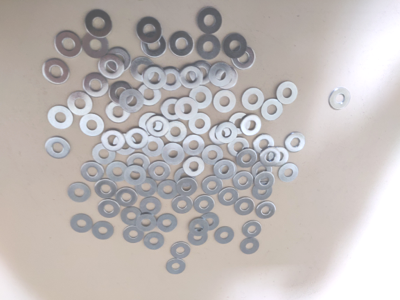circle: (85, 10, 112, 38), (43, 58, 70, 85), (55, 31, 82, 58), (136, 17, 162, 44), (98, 54, 125, 80), (83, 32, 109, 59), (141, 32, 167, 58), (68, 91, 94, 116), (106, 47, 132, 72), (83, 73, 109, 98), (47, 105, 74, 129), (198, 8, 222, 34), (170, 31, 194, 57), (197, 35, 221, 60), (209, 62, 233, 87), (80, 113, 105, 137), (119, 89, 144, 113), (109, 82, 134, 106), (142, 66, 167, 90), (131, 57, 155, 82), (45, 137, 71, 160), (189, 85, 213, 109), (223, 34, 247, 58), (231, 45, 255, 69), (160, 67, 184, 91), (139, 112, 162, 137), (242, 87, 265, 111), (102, 129, 126, 152), (180, 65, 203, 89), (189, 61, 212, 85), (214, 90, 237, 113), (175, 97, 198, 120), (126, 128, 149, 151), (215, 67, 239, 89), (138, 84, 162, 106), (106, 102, 131, 123), (162, 143, 185, 165), (142, 135, 165, 157), (93, 142, 116, 164), (277, 81, 298, 105), (329, 88, 351, 110), (261, 99, 283, 121), (216, 122, 238, 144), (189, 112, 211, 134), (165, 121, 187, 143), (230, 112, 251, 135), (162, 99, 185, 120), (81, 162, 104, 183), (127, 153, 150, 174), (183, 156, 205, 177), (183, 135, 205, 156), (125, 165, 147, 186), (68, 183, 91, 203), (285, 132, 306, 153), (241, 116, 262, 137), (116, 187, 137, 208), (140, 197, 162, 217), (202, 175, 224, 195), (149, 161, 171, 181), (233, 171, 254, 191), (278, 163, 299, 183), (260, 147, 281, 167), (237, 148, 258, 168), (210, 125, 231, 145), (203, 145, 224, 165), (121, 207, 142, 227), (254, 133, 274, 154), (228, 137, 249, 157), (107, 162, 128, 182), (71, 214, 93, 233), (98, 199, 120, 218), (95, 180, 117, 199), (269, 148, 289, 168), (252, 161, 273, 180), (194, 195, 215, 214), (177, 178, 198, 197), (136, 178, 157, 197), (135, 214, 157, 232), (92, 222, 114, 240), (255, 172, 275, 191), (175, 168, 195, 187), (215, 160, 234, 180), (217, 161, 237, 180), (158, 180, 177, 200), (218, 188, 239, 206), (172, 196, 193, 214), (256, 201, 276, 219), (215, 227, 235, 245), (235, 198, 255, 216), (253, 182, 273, 200), (188, 228, 208, 246), (189, 218, 209, 236), (158, 214, 178, 232), (144, 232, 164, 250), (124, 226, 145, 243), (242, 221, 262, 238), (200, 214, 220, 231), (172, 242, 191, 259), (241, 238, 260, 255), (166, 260, 186, 275)
